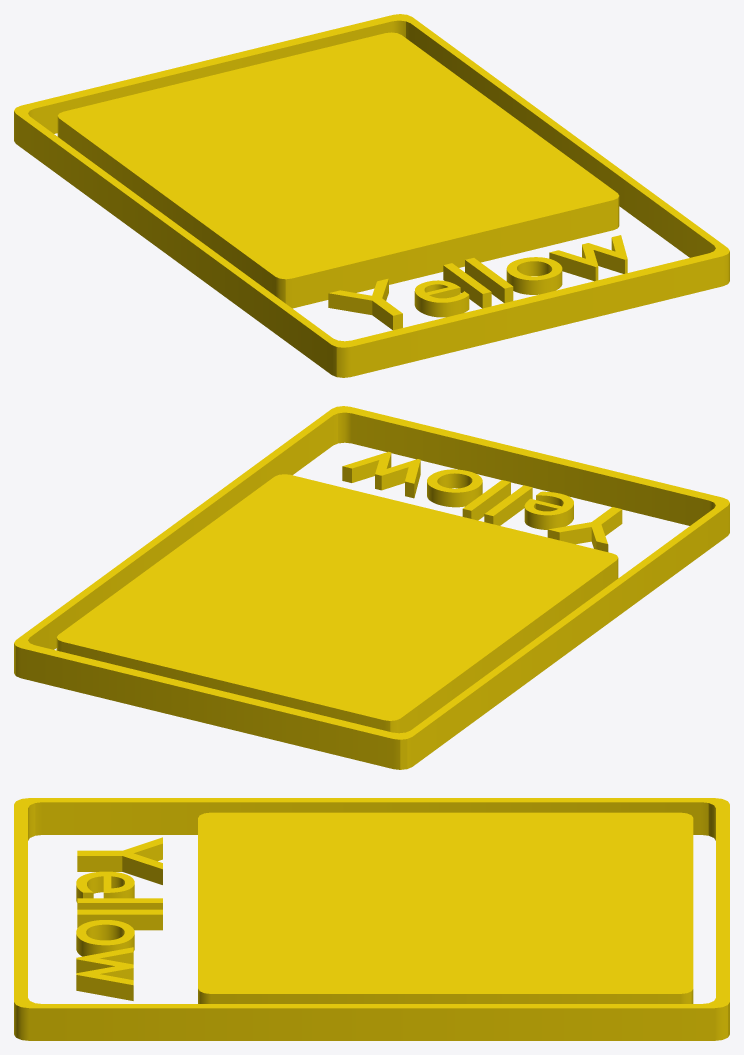
Rendered from colorYellow.glb.
The picture shows the model from 3 angles, top to bottom: view 1: azimuth 30°, elevation 25°; view 2: azimuth 150°, elevation 25°; view 3: azimuth 270°, elevation 25°; orthographic projection. The views are drawn at different scales.
Visible parts, largest first — view 1: Cube.002; view 2: Cube.002; view 3: Cube.002.
Part boxes in pixels (bbox=[...]): Cube.002: bbox=[14, 14, 729, 377]; Cube.002: bbox=[14, 406, 729, 769]; Cube.002: bbox=[14, 798, 729, 1040].
Size of the model in its own units: 0.9357 by 0.0682 by 1.35.
